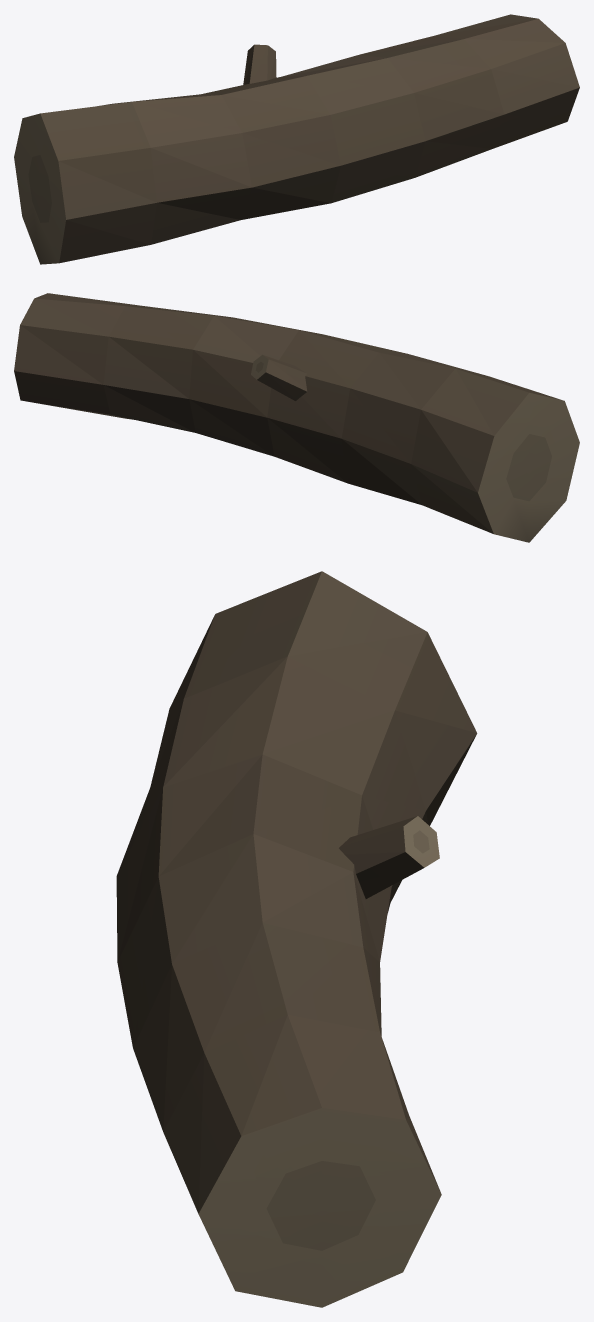
Rendered from totholz_stamm.glb.
3 renders of one model, top to bottom at view 1: azimuth 30°, elevation 25°; view 2: azimuth 150°, elevation 25°; view 3: azimuth 270°, elevation 25°, orthographic. The views are drawn at different scales.
Parts seen in each view (by area): view 1: totholz_stamm; view 2: totholz_stamm; view 3: totholz_stamm.
Boxes of the visible parts, x1,y1,x2,y2 form: totholz_stamm: (14,14,579,264); totholz_stamm: (14,293,579,542); totholz_stamm: (116,571,477,1307).
Bounding box in the file's own units: 1.8 × 0.5 × 0.5442.
